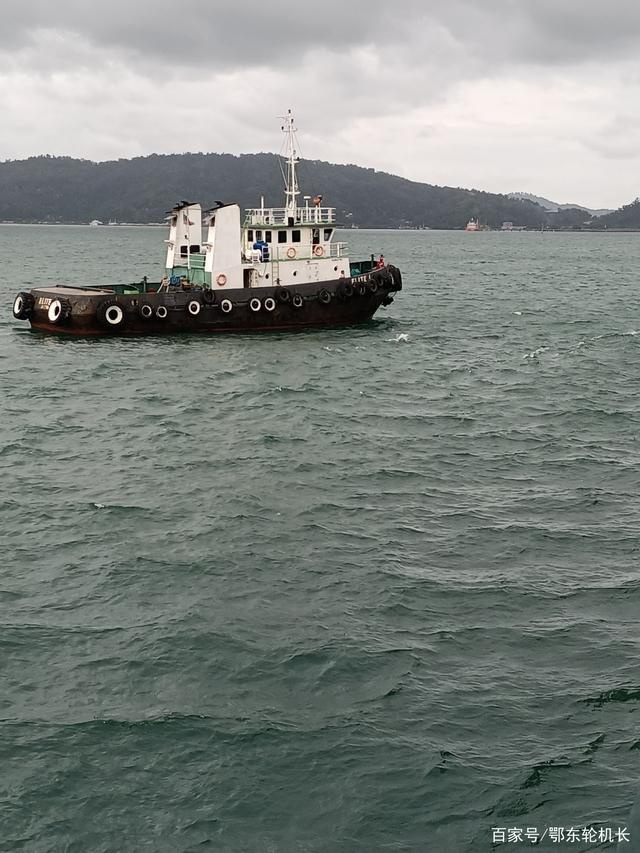otherboat: (16, 156, 408, 350)
